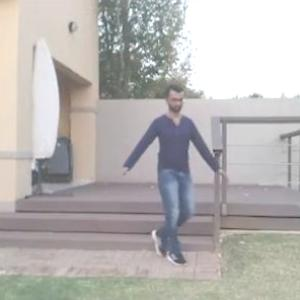land: (114, 92, 222, 269)
